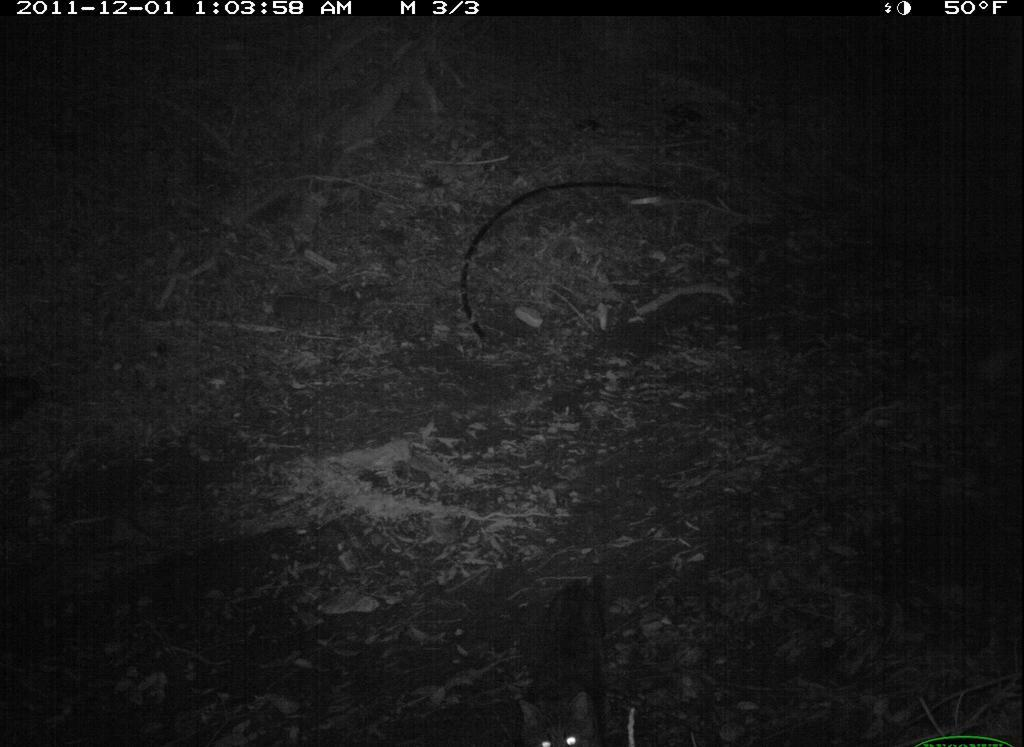cat: (504, 564, 621, 744)
